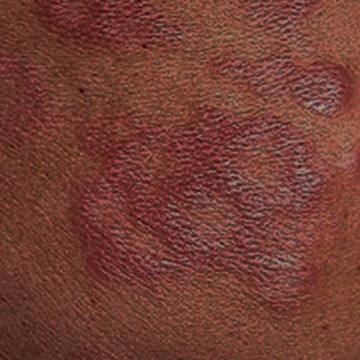Leprosy: (68, 105, 332, 316), (204, 43, 359, 127), (0, 0, 197, 51)
